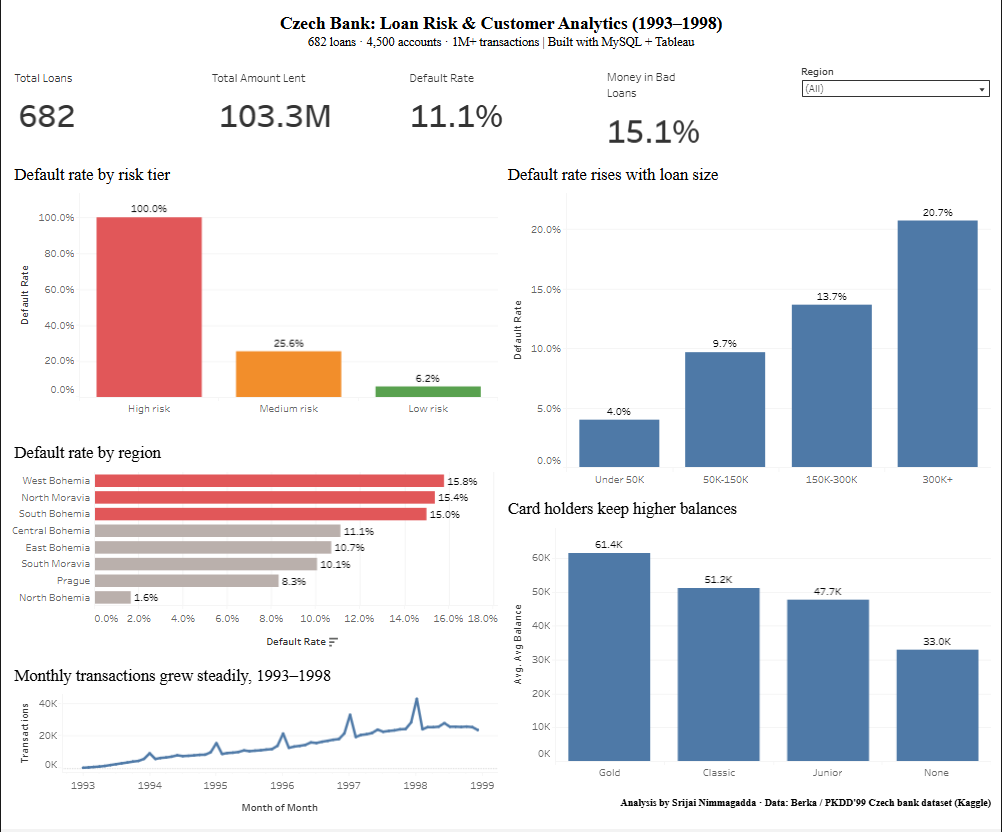

Layout of this report page (visuals, bound fields, positions):
{"tool":"tableau","page":{"name":"Bank Loan Risk Dashboard","canvas":[1200,1000],"ordinal":0},"visuals":[{"type":"title","box":[8,8,1184,70]},{"type":"worksheet","title":"KPI Loans","mark":"Text","box":[8,78,237,136]},{"type":"worksheet","title":"KPI Lent","mark":"Text","box":[245,78,237,136]},{"type":"worksheet","title":"KPI Default","mark":"Automatic","box":[482,78,237,136]},{"type":"worksheet","title":"KPI At Risk","mark":"Automatic","box":[719,78,237,136]},{"type":"filter","title":"Regions","param":"[federated.09eh5yh1vfgpti1eymz361rmoxep].[none:region:nk]","box":[956,78,236,136]},{"type":"worksheet","title":"Risk Tiers","mark":"Automatic","rows":["Calculation_1420041324617723906"],"cols":["risk_tier"],"box":[8,214,592,324.8]},{"type":"worksheet","title":"Amount Bands","mark":"Automatic","rows":["Calculation_1420041324617723906"],"cols":["amount_band"],"box":[600,214,592,389]},{"type":"worksheet","title":"Regions","mark":"Automatic","rows":["region"],"cols":["Calculation_1420041324617723906"],"box":[8,538.8,592,258.5]},{"type":"worksheet","title":"Card Value","mark":"Automatic","rows":["avg_balance"],"cols":["card_type"],"box":[600,603,592,342.5]},{"type":"worksheet","title":"Monthly Trend","mark":"Automatic","rows":["transactions"],"cols":["month"],"box":[8,797.3,592,194.7]},{"type":"text","box":[600,945.5,592,46.5]}]}

Visuals, with their boxes in screenshot pixels (x1, y1, x2, y2), scaled from the page's 1200x1000 canvas onto the 1002x832 screenshot:
title: crop(7, 7, 995, 65)
"KPI Loans" worksheet (Text marks): crop(7, 65, 205, 178)
"KPI Lent" worksheet (Text marks): crop(205, 65, 402, 178)
"KPI Default" worksheet: crop(402, 65, 600, 178)
"KPI At Risk" worksheet: crop(600, 65, 798, 178)
"Regions" filter: crop(798, 65, 995, 178)
"Risk Tiers" worksheet: crop(7, 178, 501, 448)
"Amount Bands" worksheet: crop(501, 178, 995, 502)
"Regions" worksheet: crop(7, 448, 501, 663)
"Card Value" worksheet: crop(501, 502, 995, 787)
"Monthly Trend" worksheet: crop(7, 663, 501, 825)
text: crop(501, 787, 995, 825)
